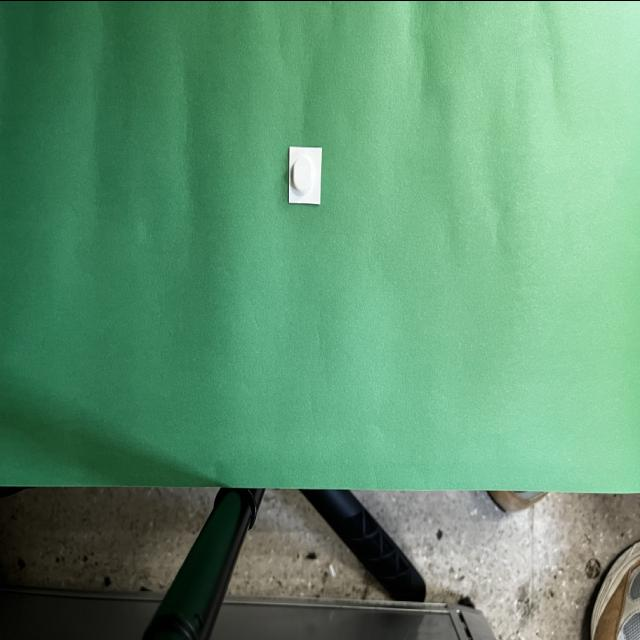Other Objects: (289, 147, 322, 204)
